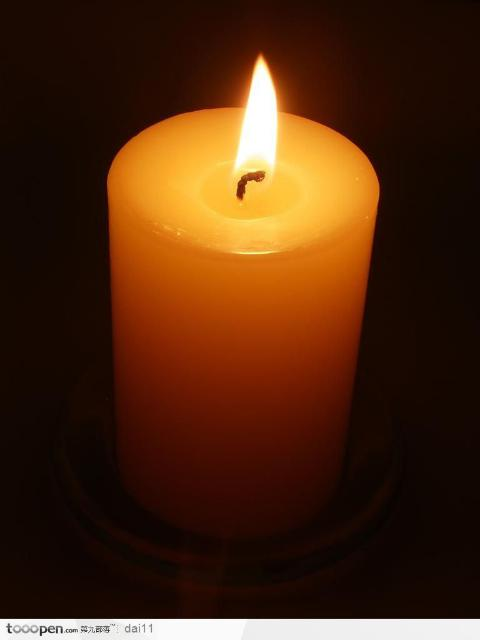fire: (237, 56, 277, 170)
